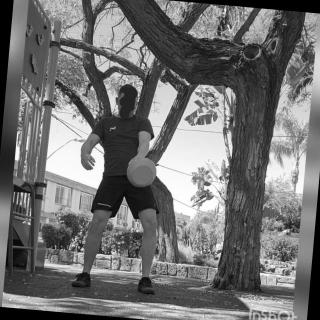kettlebell: (122, 150, 168, 194)
